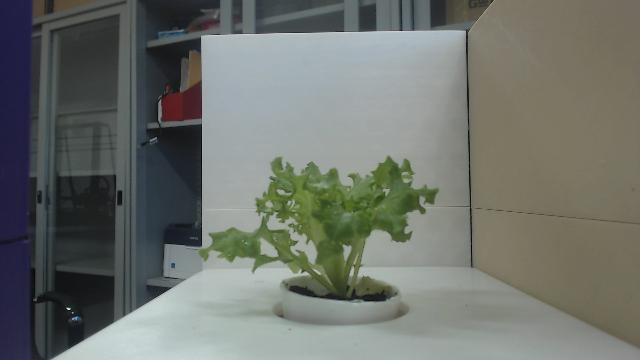Vegetative Stage: (197, 152, 439, 300)
